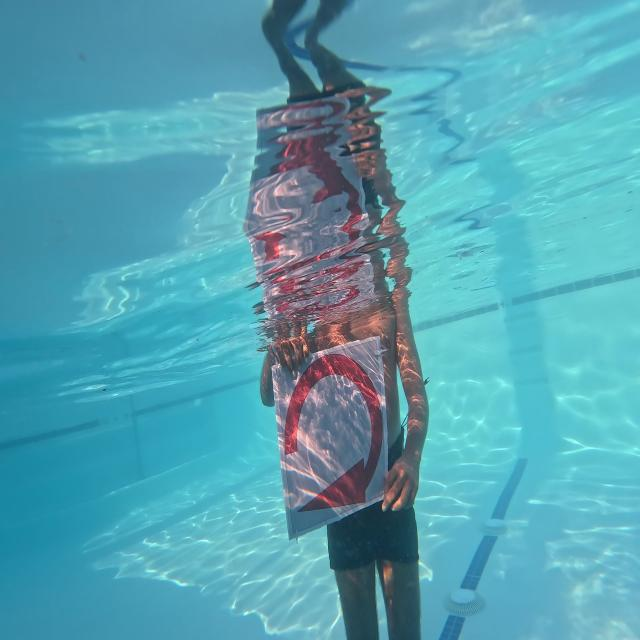red_side: (282, 342, 389, 534)
